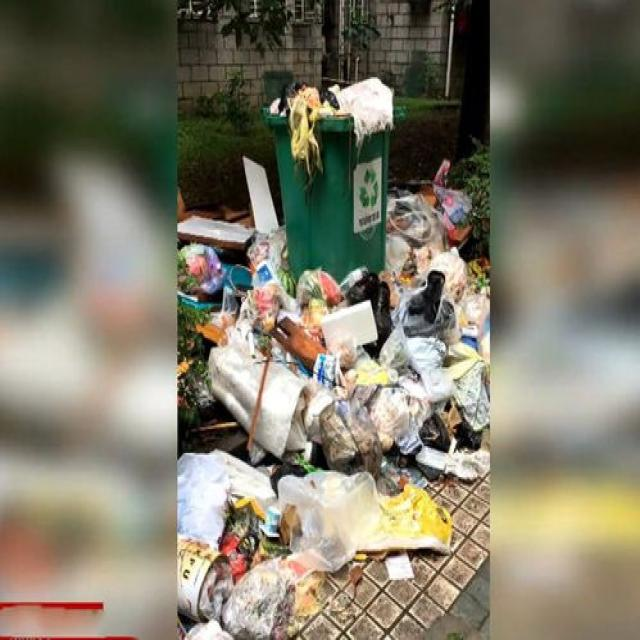garbage: (176, 158, 488, 636)
overflow: (262, 74, 395, 285)
